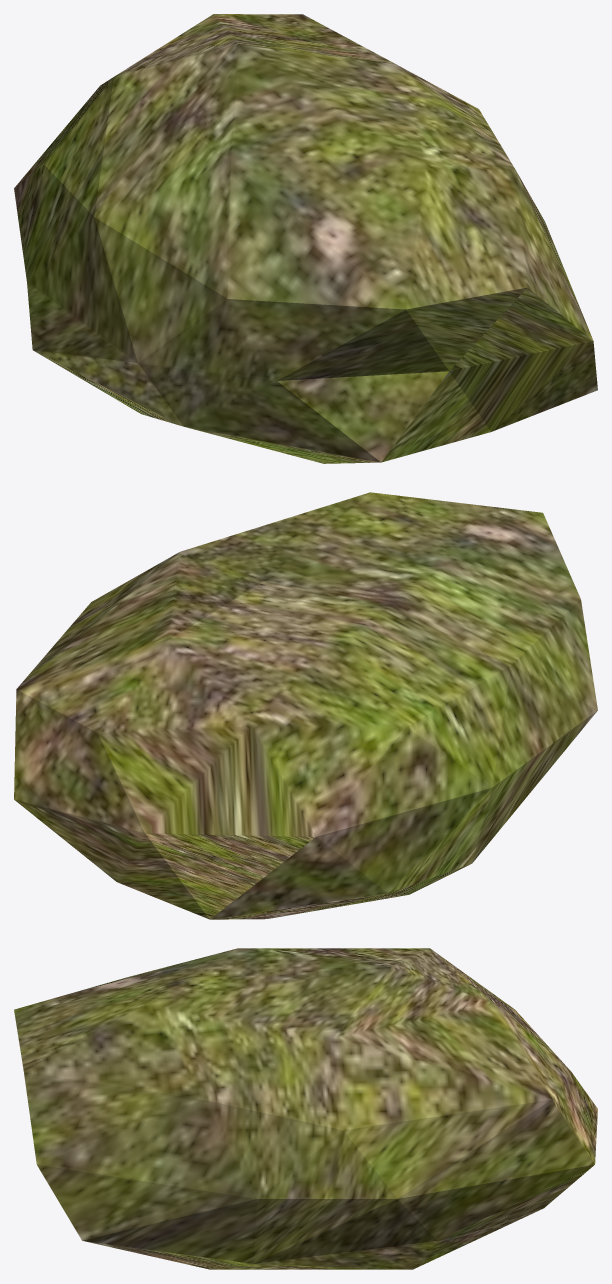
File: Bush2.glb
3 renders of one model, top to bottom at view 1: azimuth 30°, elevation 25°; view 2: azimuth 150°, elevation 25°; view 3: azimuth 270°, elevation 25°, orthographic. The views are drawn at different scales.
Visible parts, largest first — view 1: Icosphere; view 2: Icosphere; view 3: Icosphere.
Boxes of the visible parts, x1,y1,x2,y2 form: Icosphere: [14, 14, 597, 463]; Icosphere: [14, 492, 597, 919]; Icosphere: [14, 948, 597, 1269].
Size of the model in its own units: 9.75 by 7.15 by 13.36.
1 material, 1 textured.
